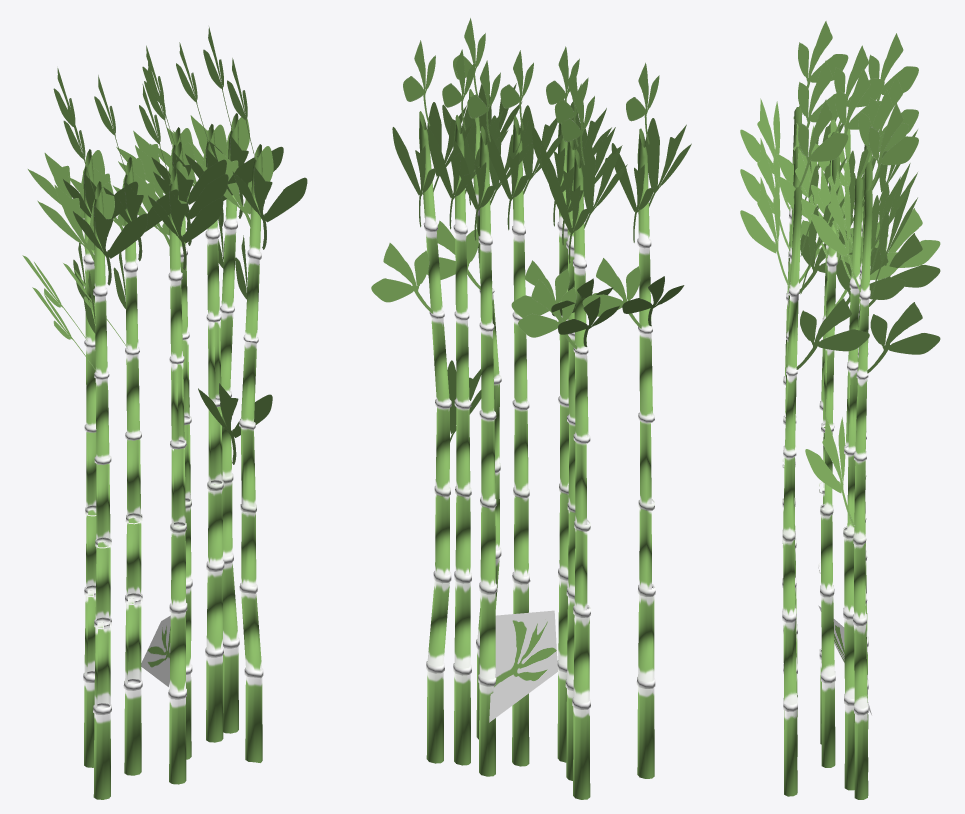
The model's file is OBJ_Bamboo.fbx.
3 views of the same model, side by side, from view 1: azimuth 30°, elevation 25°; view 2: azimuth 150°, elevation 25°; view 3: azimuth 270°, elevation 25° (orthographic). The views are drawn at different scales.
Visible parts, largest first — view 1: Bamboo; view 2: Bamboo; view 3: Bamboo.
Part boxes in pixels (x1,y1,x2,y2): Bamboo: (22,27,307,799); Bamboo: (371,18,691,799); Bamboo: (740,21,940,799).
Size of the model in its own units: 3263 by 8405 by 2415.
3 materials, 3 textured.
